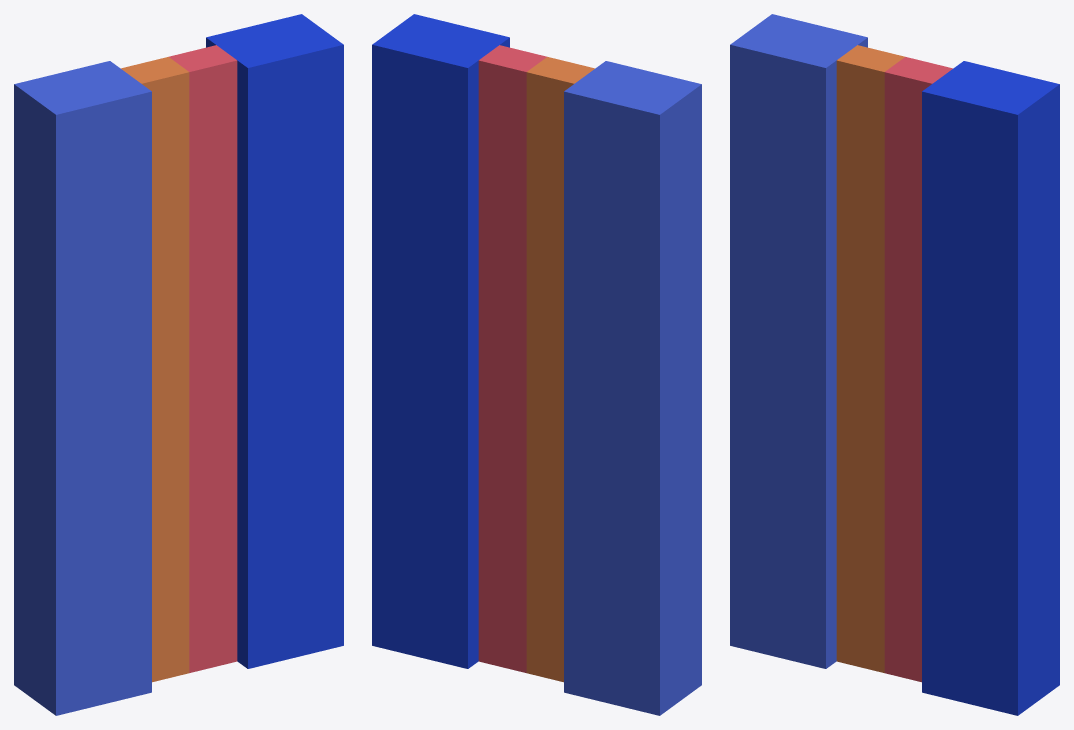
The model's file is Desert_SlidingDoor_low.fbx.
The picture shows the model from 3 angles, left to right: view 1: azimuth 30°, elevation 25°; view 2: azimuth 150°, elevation 25°; view 3: azimuth 330°, elevation 25°; orthographic projection.
Visible parts, largest first — view 1: Door_outer_left_low, Door_outer_right_low, Door_inner_right_low, Door_inner_left_low; view 2: Door_outer_left_low, Door_outer_right_low, Door_inner_right_low, Door_inner_left_low; view 3: Door_outer_right_low, Door_outer_left_low, Door_inner_left_low, Door_inner_right_low.
Boxes of the visible parts, box(x1,y1,x2,y2) form: Door_outer_left_low: box(14, 61, 151, 715); Door_outer_right_low: box(206, 14, 343, 668); Door_inner_right_low: box(169, 45, 237, 672); Door_inner_left_low: box(121, 57, 189, 682); Door_outer_left_low: box(564, 61, 701, 715); Door_outer_right_low: box(372, 14, 509, 668); Door_inner_right_low: box(478, 45, 546, 672); Door_inner_left_low: box(526, 57, 594, 682); Door_outer_right_low: box(922, 61, 1059, 715); Door_outer_left_low: box(730, 14, 867, 668); Door_inner_left_low: box(836, 45, 904, 672); Door_inner_right_low: box(884, 57, 952, 682).
Size of the model in its own units: 2.4 by 4.8 by 0.6072.
